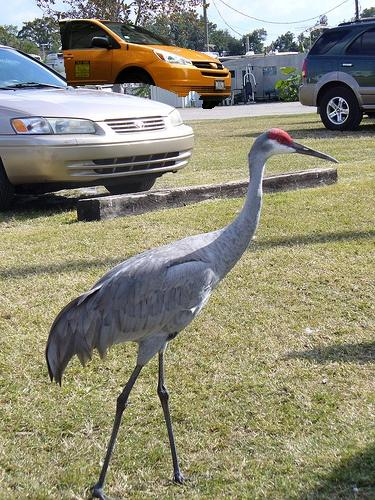tampered: (60, 19, 231, 109)
